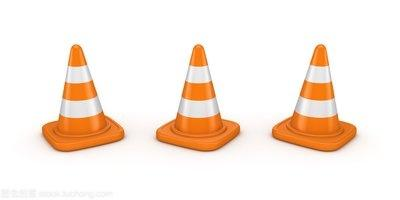cone_barrel: (44, 43, 115, 140), (282, 43, 352, 140), (164, 43, 234, 138)
